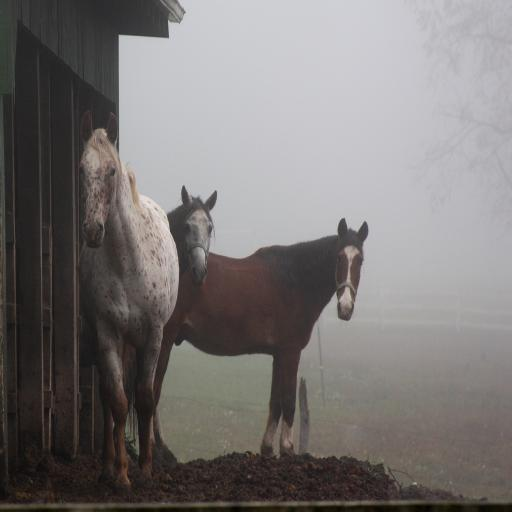horse: (112, 216, 369, 465), (74, 106, 180, 496), (163, 182, 219, 290)
